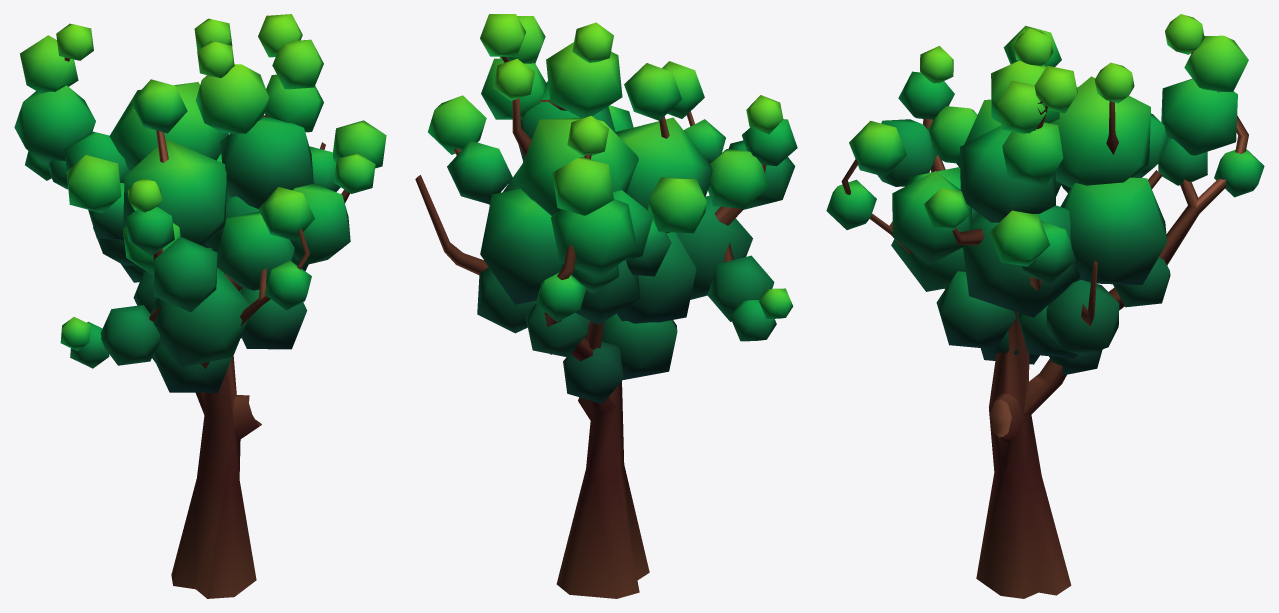
Rendered from Tree_2D.fbx.
3 views of the same model, side by side, from view 1: azimuth 30°, elevation 25°; view 2: azimuth 150°, elevation 25°; view 3: azimuth 270°, elevation 25° (orthographic). The views are drawn at different scales.
Parts seen in each view (by area): view 1: Tree_2D; view 2: Tree_2D; view 3: Tree_2D.
Boxes of the visible parts, x1,y1,x2,y2 form: Tree_2D: [14, 14, 386, 598]; Tree_2D: [415, 14, 797, 598]; Tree_2D: [826, 14, 1264, 598].
Bounding box in the file's own units: 5.39 × 8.31 × 5.95.
